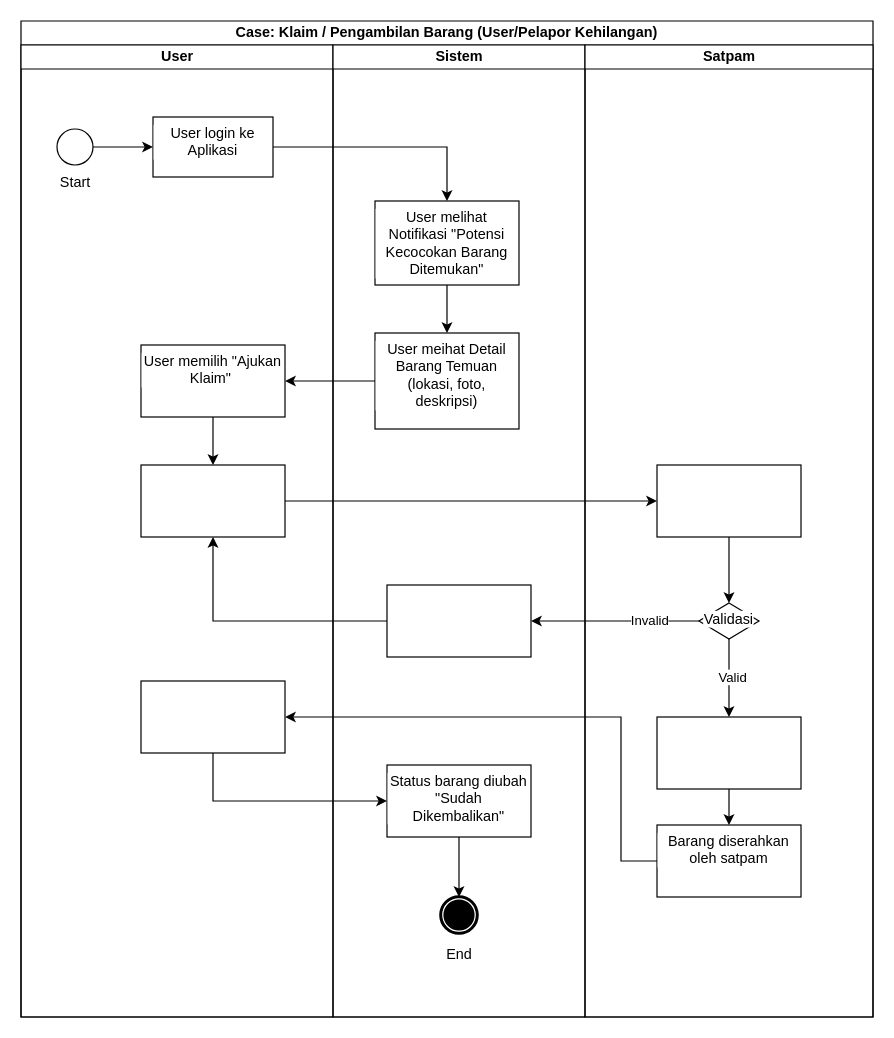
Image size: 894x1038. Some labels were removed from this diagram. Each missing label, with the centre of its shape:
[Satpam menerima dan verifikasi jawaban: (728,500)
Konfirmasi waktu dan tempat pengambilan: (728,752)
Tampilkan pesan "Klaim Ditolak": (458,620)
User melakukantanda tangan digital saat pengambilan: (212,716)
User mengisi ciri Unik Barang: (212,500)
